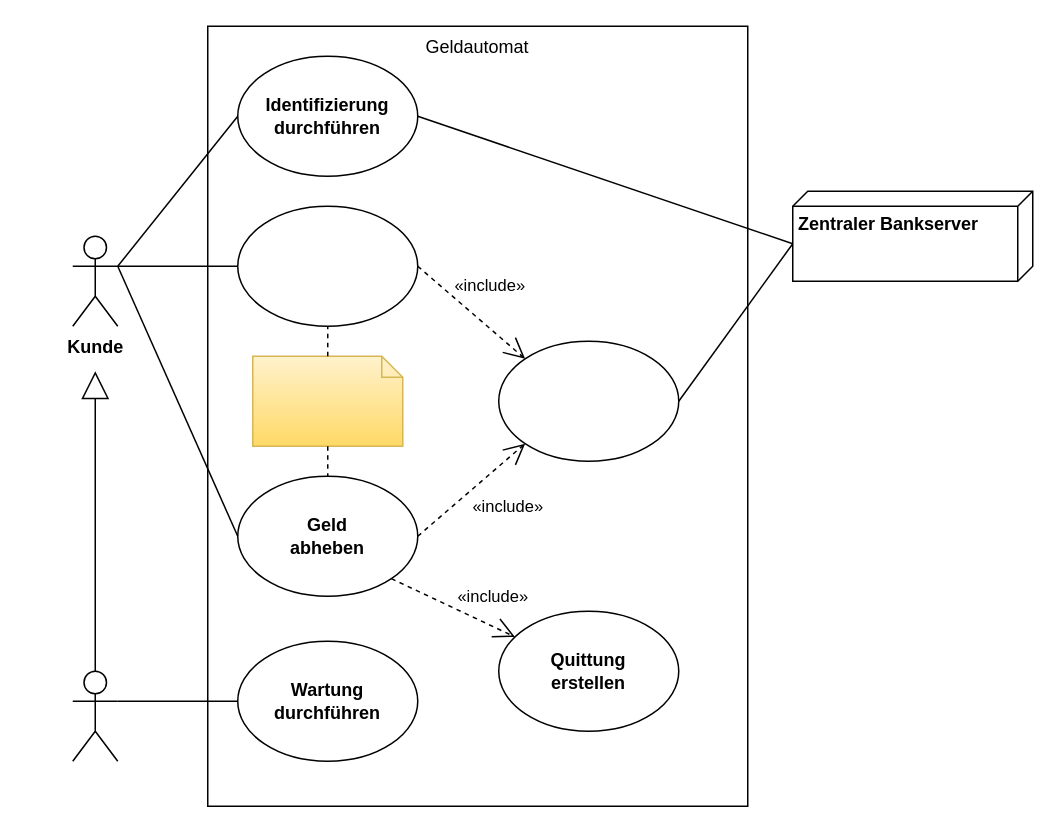
The diagram is 1059 pixels wide and 833 high, and some of its shapes have lost their labels. The shapes that lost their labels are listed below. From the top down, each one's centre as x and y in pixels, then its label:
At [327,265]: "Kontostand abfragen".
At [327,400]: "Erst nach erfolgreicher Identifizierung möglich!".
At [588,400]: "Details abfragen".
At [94,715]: "Servicepersonal".
